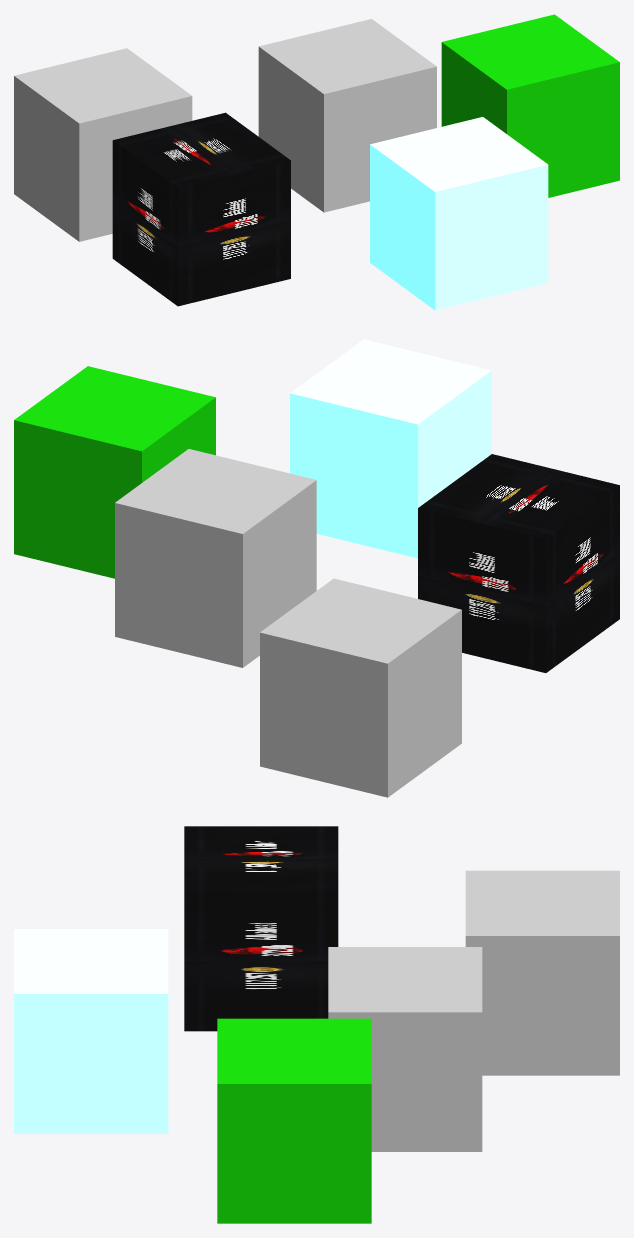
Rendered from TestSceneGLFF02.fc16ce36.glb.
3 views of the same model, one above another, from view 1: azimuth 30°, elevation 25°; view 2: azimuth 150°, elevation 25°; view 3: azimuth 270°, elevation 25° (orthographic). The views are drawn at different scales.
Parts seen in each view (by area): view 1: Cube.003, Cube, Cube.002, Cube.001, Cube.004_baked; view 2: Cube.004_baked, Cube.002, Cube.003, Cube, Cube.001; view 3: Cube.001, Cube, Cube.004_baked, Cube.003, Cube.002.
Boxes of the visible parts, x1,y1,x2,y2 form: Cube.003: (112, 112, 290, 306); Cube: (370, 117, 548, 310); Cube.002: (258, 19, 436, 212); Cube.001: (441, 14, 619, 197); Cube.004_baked: (14, 48, 192, 241); Cube.004_baked: (260, 578, 461, 797); Cube.002: (115, 449, 316, 667); Cube.003: (418, 454, 619, 672); Cube: (290, 339, 491, 558); Cube.001: (14, 366, 215, 578); Cube.001: (217, 1018, 371, 1223); Cube: (14, 929, 168, 1133); Cube.004_baked: (465, 870, 619, 1075); Cube.003: (184, 826, 338, 1031); Cube.002: (328, 947, 482, 1151).
Bounding box in the file's own units: 8.06 × 2.54 × 7.86.
Materials: 6 (1 with a texture image).
